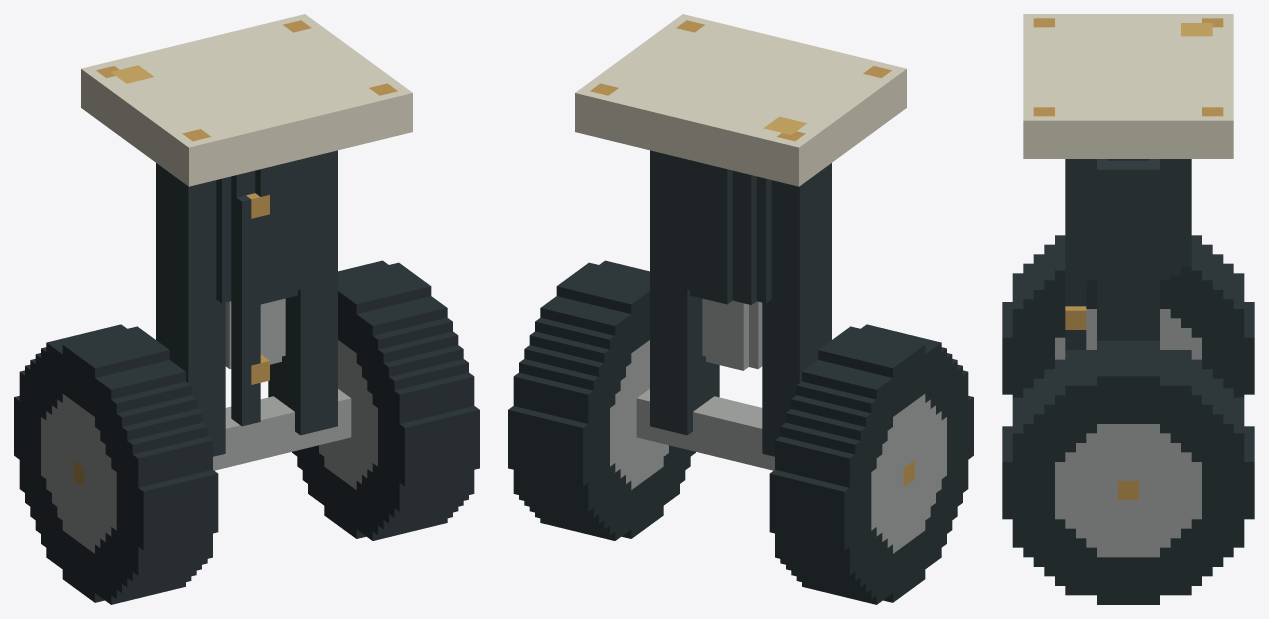
3 views of the same model, side by side, from view 1: azimuth 30°, elevation 25°; view 2: azimuth 150°, elevation 25°; view 3: azimuth 270°, elevation 25° (orthographic). The views are drawn at different scales.
Visible parts, largest first — view 1: 公共客机起落架与轮组; view 2: 公共客机起落架与轮组; view 3: 公共客机起落架与轮组.
Part boxes in pixels (x1,y1,x2,y2): 公共客机起落架与轮组: [14, 14, 479, 604]; 公共客机起落架与轮组: [508, 14, 973, 604]; 公共客机起落架与轮组: [1002, 14, 1254, 604].
Size of the model in its own units: 1.8 by 2.4 by 1.2.
Materials: 6 (6 with a texture image).
